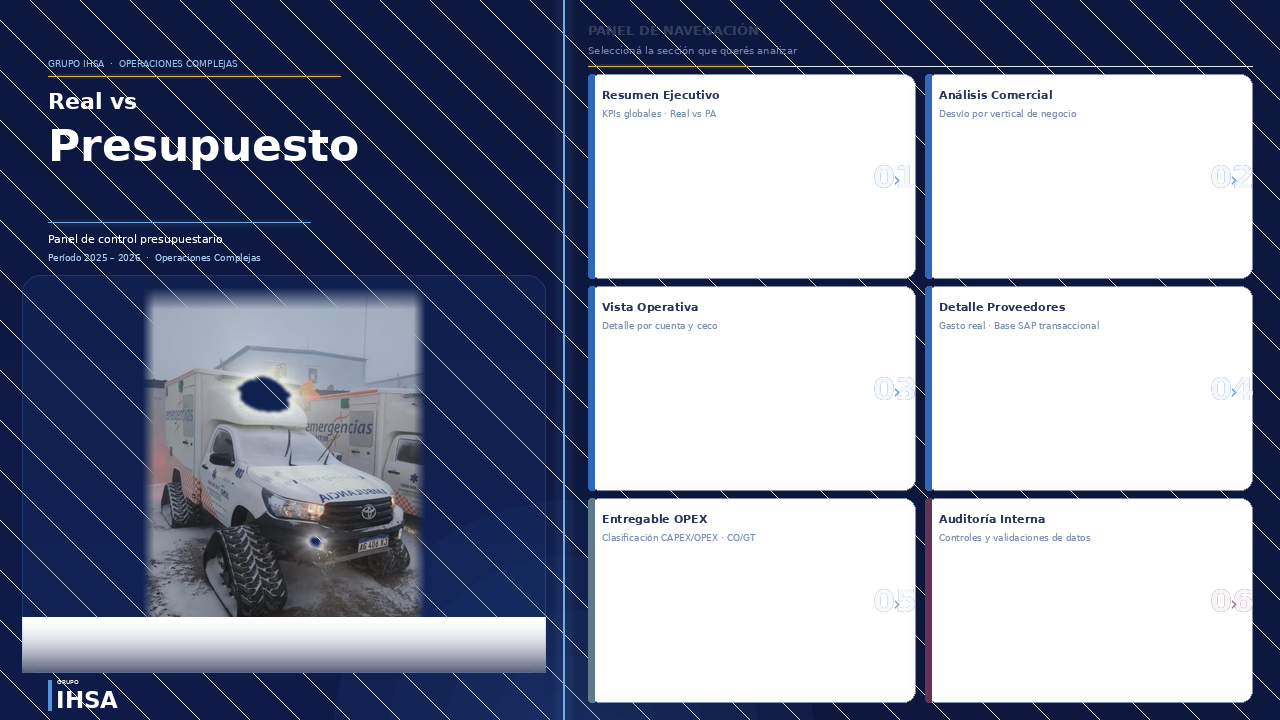

The page's visual inventory and layout, read from the dashboard file:
{"tool":"powerbi","page":{"name":"0. Índice","canvas":[1280,720],"ordinal":0},"visuals":[{"type":"pageNavigator","box":[544,64,736,640],"z":0},{"type":"image","box":[0,240,496,480],"z":1000}]}

Visuals, with their boxes in screenshot pixels (x1, y1, x2, y2), scaled from the page's 1280x720 canvas onto the 1280x720 screenshot:
pageNavigator: (x1=544, y1=64, x2=1279, y2=704)
image: (x1=0, y1=240, x2=496, y2=719)
